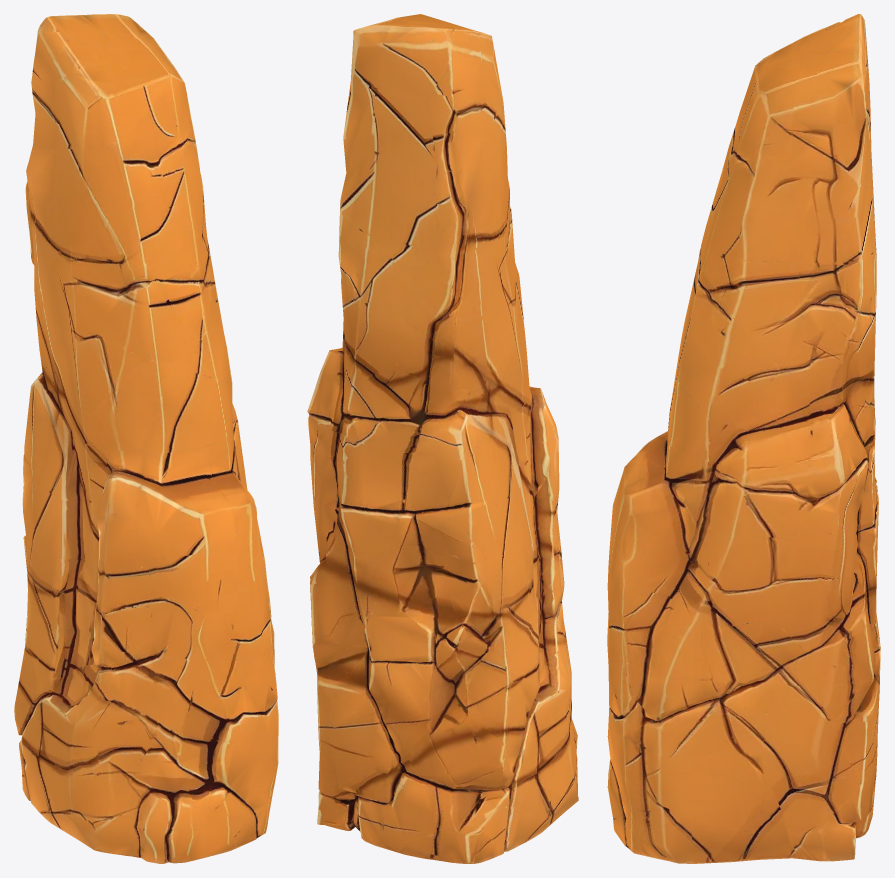
Rendered from sandstone_spire_short.glb.
The picture shows the model from 3 angles, left to right: view 1: azimuth 30°, elevation 25°; view 2: azimuth 150°, elevation 25°; view 3: azimuth 270°, elevation 25°; orthographic projection. The views are drawn at different scales.
Size of the model in its own units: 0.4798 by 1.9 by 0.5996.
Materials: 1 (1 with a texture image).
